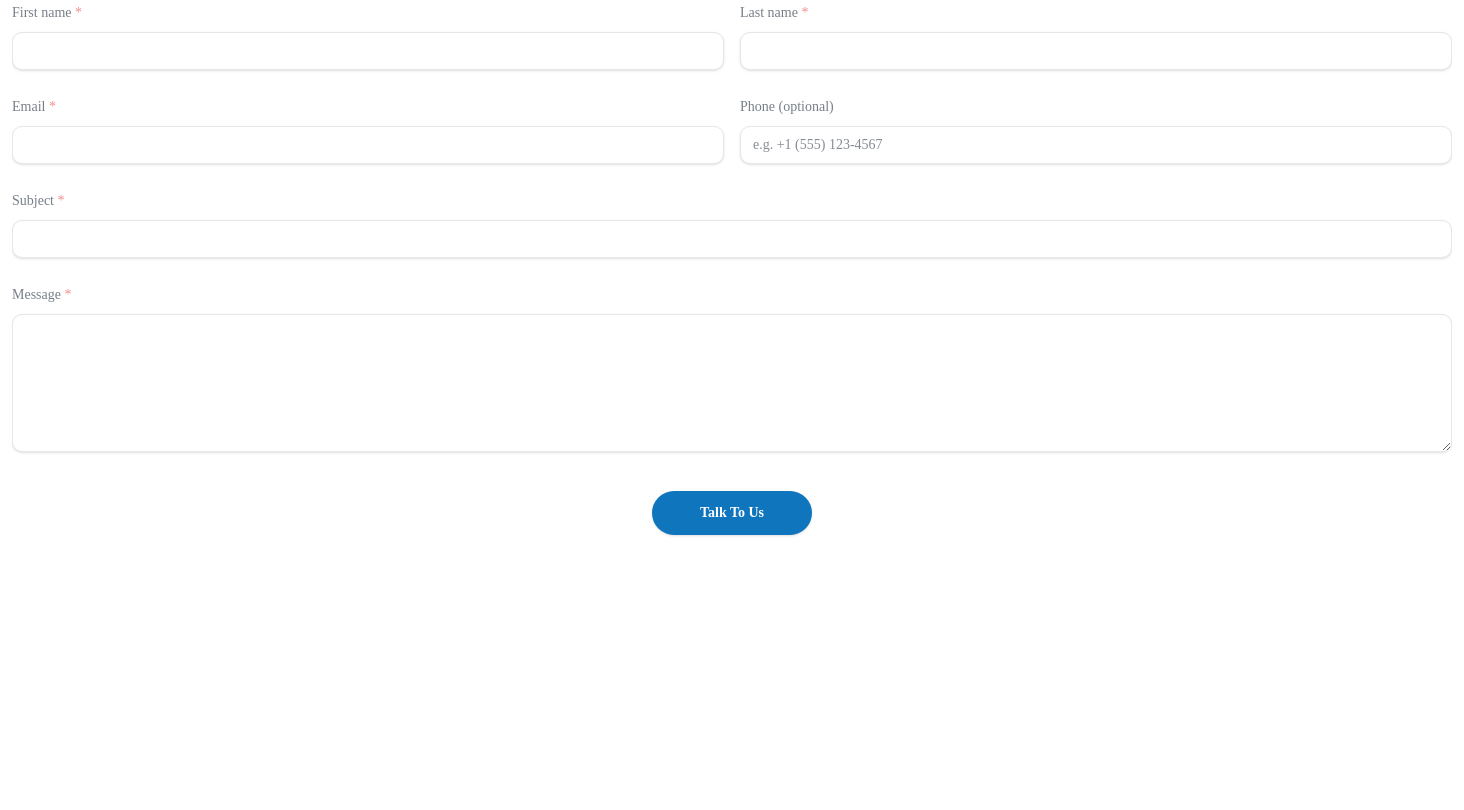
Test: ContactForm › shows validation error for empty firstName
Type "Doe" into the field labelled "Last name *" at (1096, 51), box [740, 32, 1452, 70]
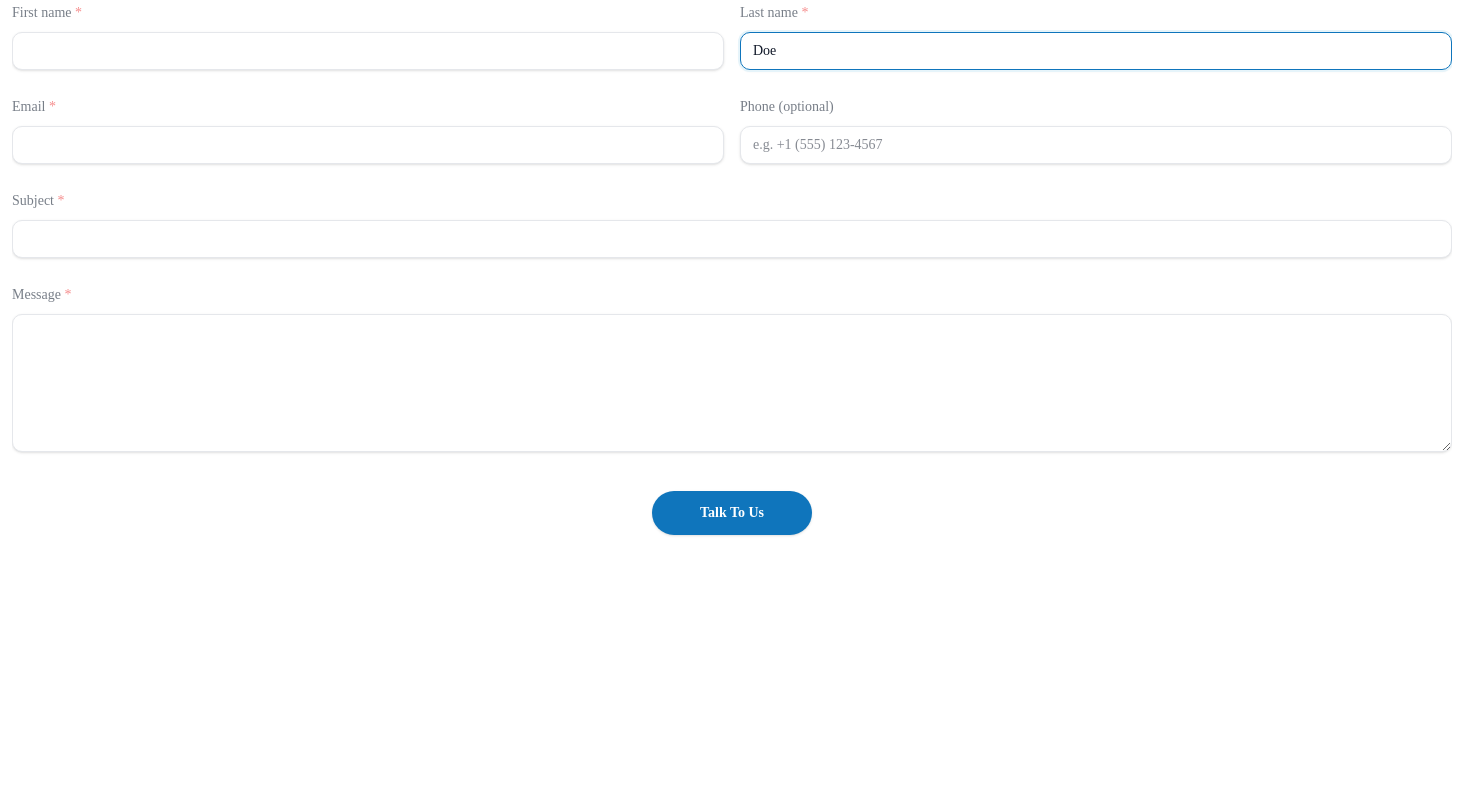
Type "test@example.com" into the field labelled "Email *" at (368, 145), box [12, 126, 724, 164]
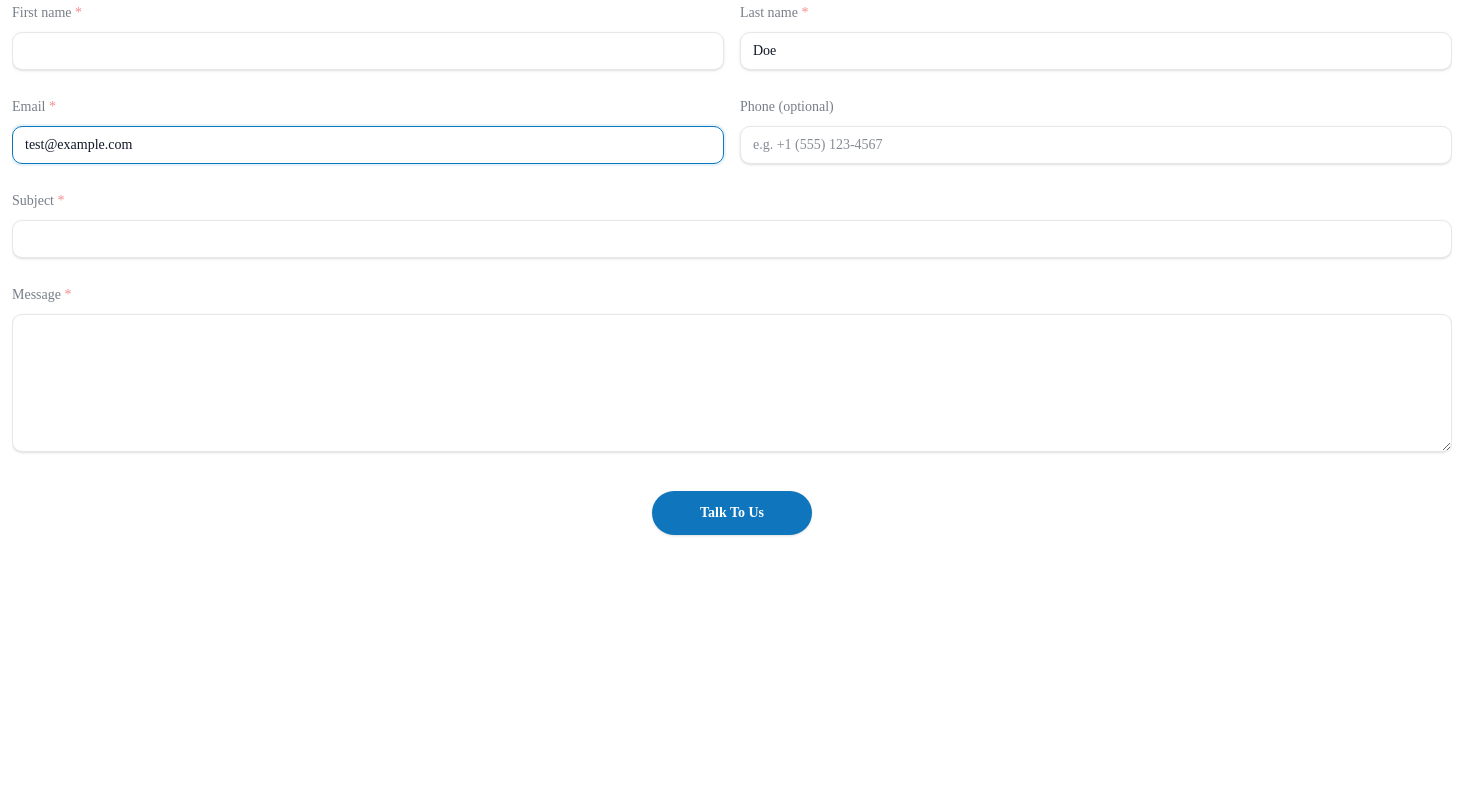
Type "Test" into the field labelled "Subject *" at (732, 239), box [12, 220, 1452, 258]
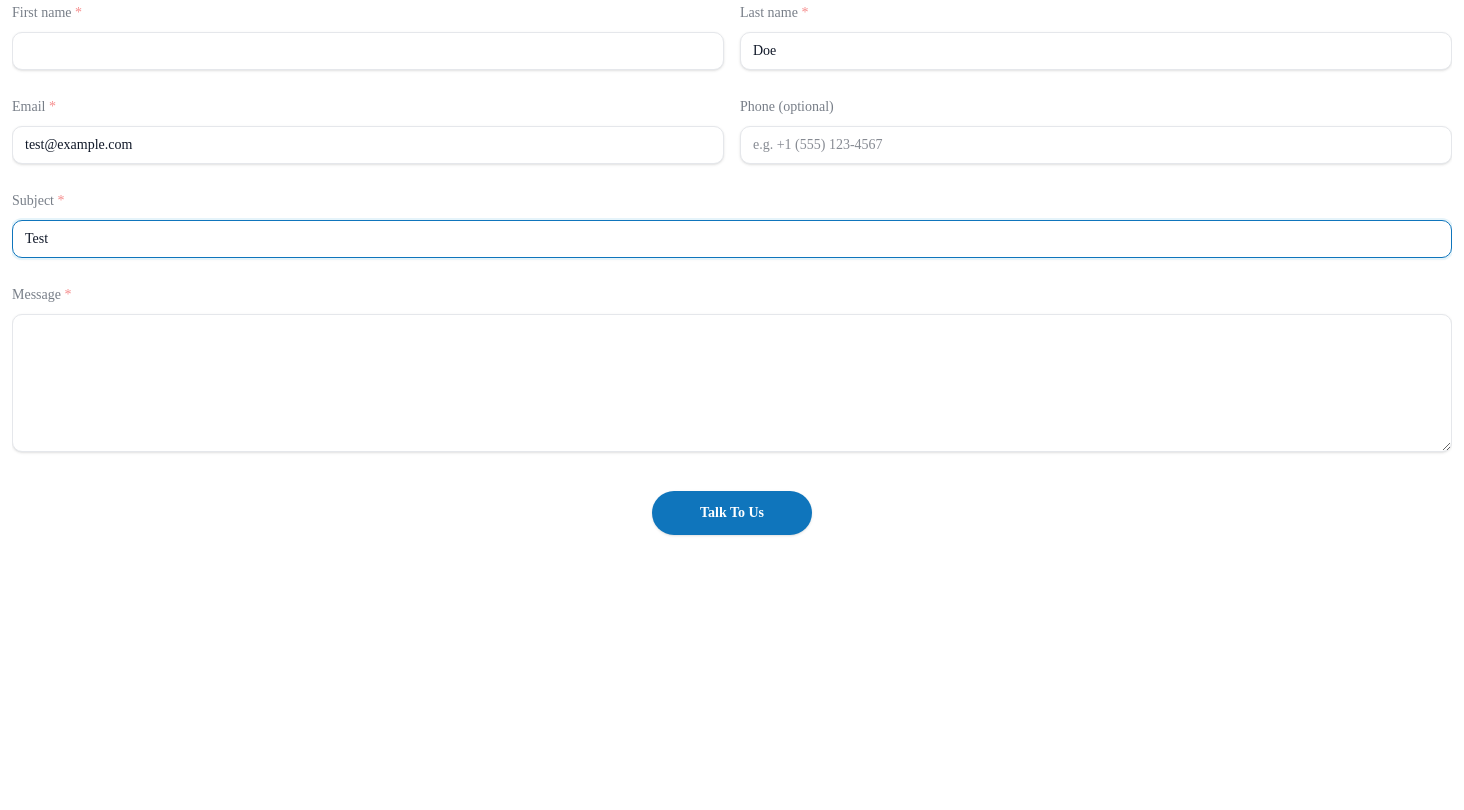
Type "Test message" into the text box labelled "Message *" at (732, 383), box [12, 314, 1452, 452]
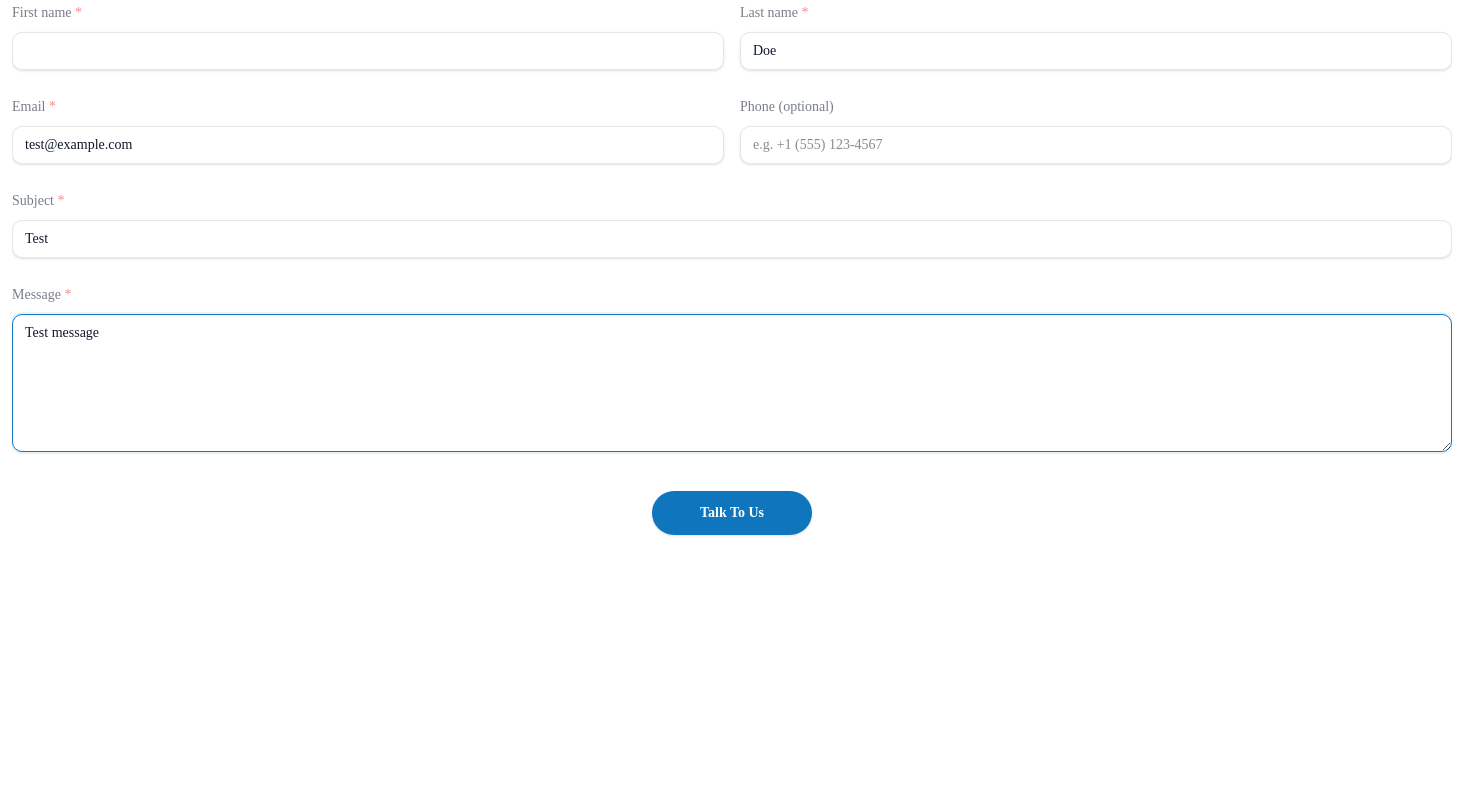
Click the button "Talk To Us" at (732, 513), box [652, 491, 812, 535]
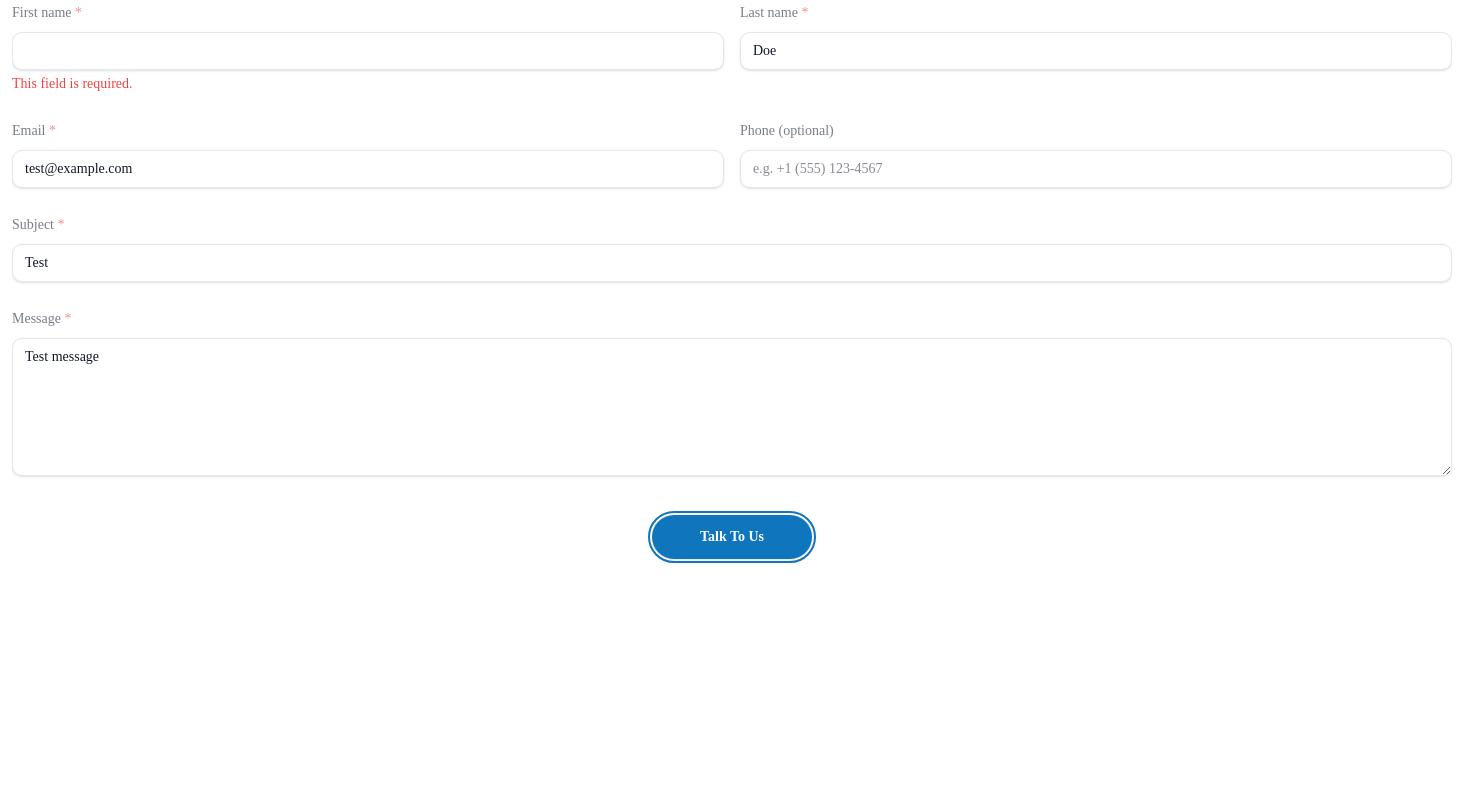
Check: the text "This field is required." is shown, box [12, 76, 132, 91]
